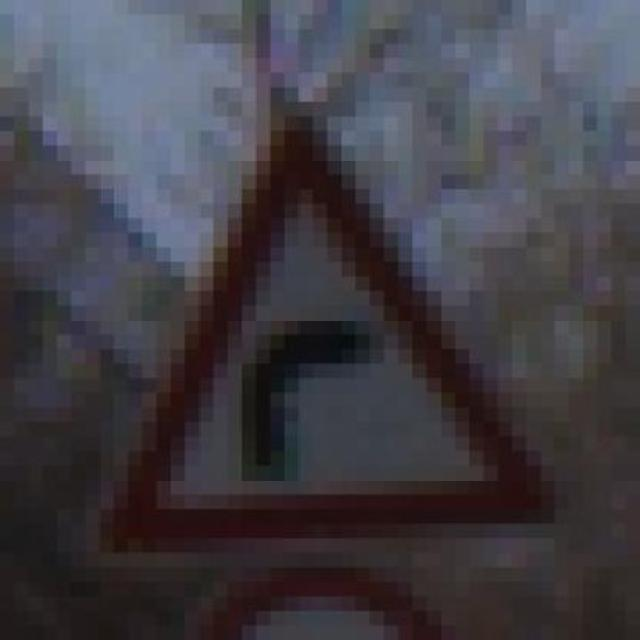Dangerous Rright Curve Ahead: (67, 93, 579, 544)
